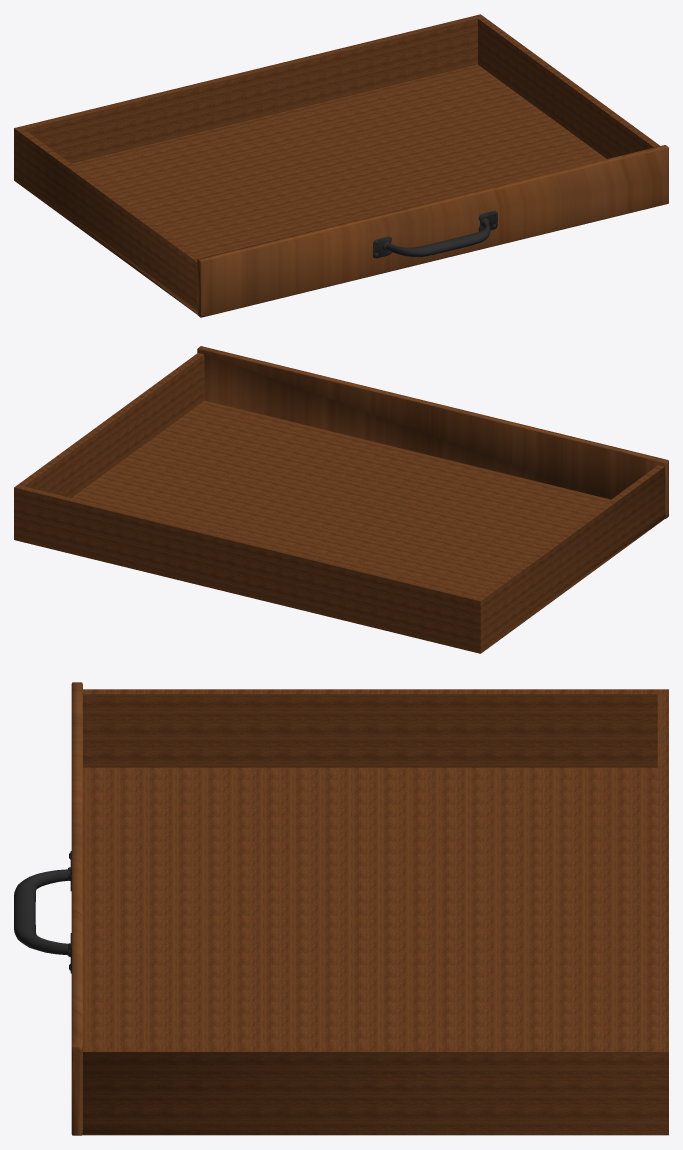
File: desk_left_drawer.glb
The picture shows the model from 3 angles, top to bottom: view 1: azimuth 30°, elevation 25°; view 2: azimuth 150°, elevation 25°; view 3: azimuth 270°, elevation 25°; orthographic projection. The views are drawn at different scales.
Visible parts, largest first — view 1: left_drawer; view 2: left_drawer; view 3: left_drawer.
Part boxes in pixels (x1,y1,x2,y2): left_drawer: [14, 14, 668, 317]; left_drawer: [14, 346, 668, 653]; left_drawer: [14, 682, 668, 1135].
Size of the model in its own units: 0.7486 by 0.0867 by 0.5693.
2 materials, 1 textured.
